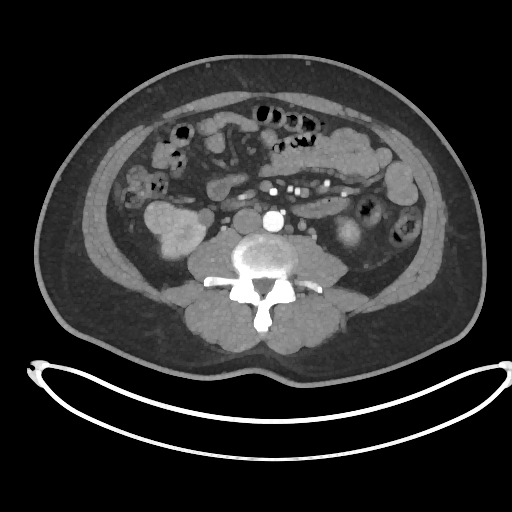Lesion: (141, 201, 177, 235)
